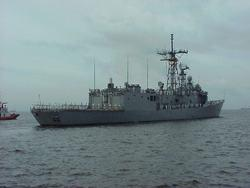warship: (30, 31, 224, 124)
